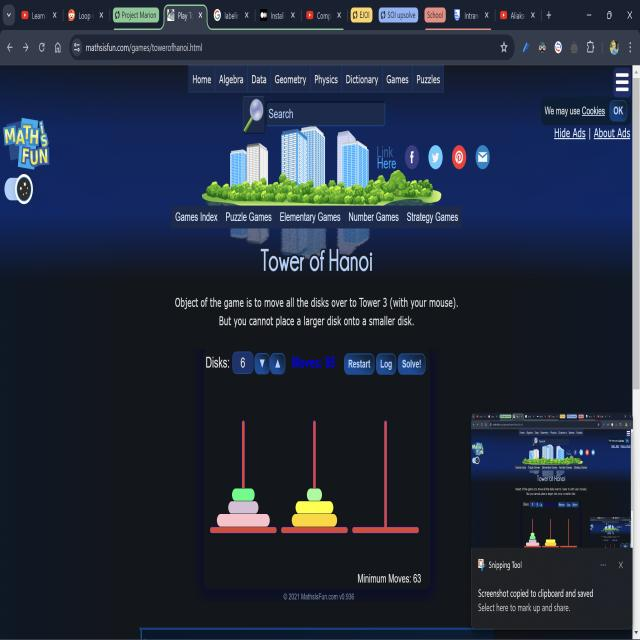disk1: (307, 488, 322, 501)
disk2: (232, 488, 254, 502)
disk3: (228, 501, 259, 514)
disk4: (296, 501, 334, 514)
disk5: (292, 514, 337, 527)
disk6: (217, 514, 270, 526)
